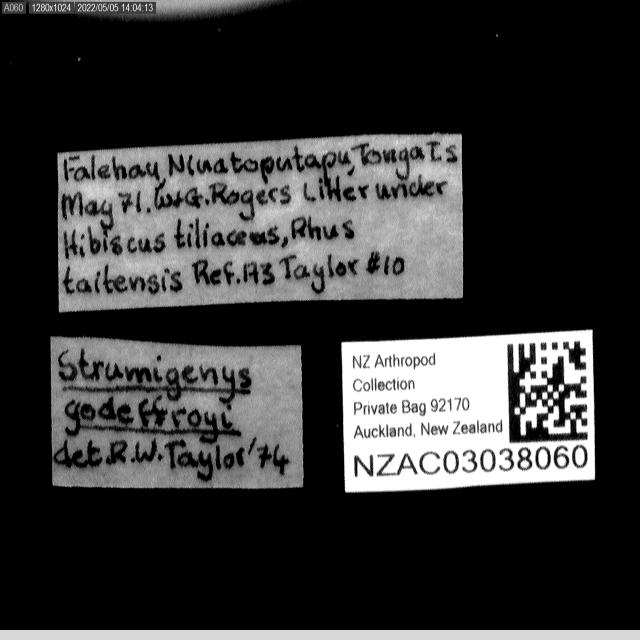hand_label: (58, 134, 462, 311), (51, 338, 304, 488)
typed_label: (341, 330, 595, 492)
